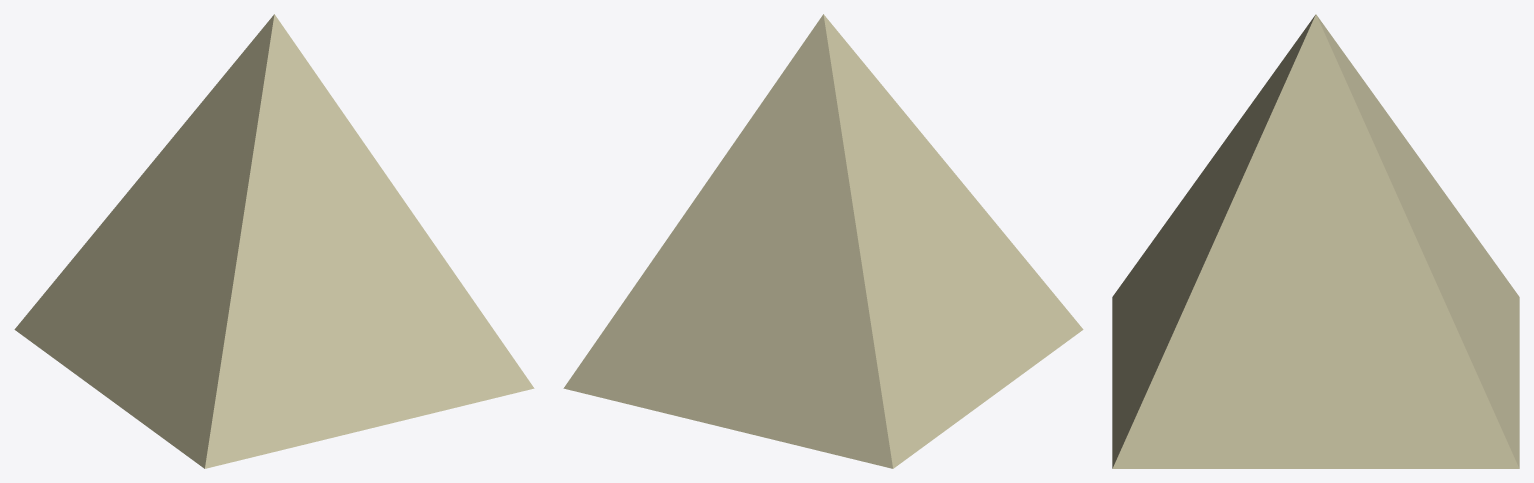
File: Shape_QuadPyramid.FBX
The picture shows the model from 3 angles, left to right: view 1: azimuth 30°, elevation 25°; view 2: azimuth 150°, elevation 25°; view 3: azimuth 270°, elevation 25°; orthographic projection. The views are drawn at different scales.
Parts seen in each view (by area): view 1: Shape_QuadPyramid; view 2: Shape_QuadPyramid; view 3: Shape_QuadPyramid.
Boxes of the visible parts, bbox=[...] form: Shape_QuadPyramid: bbox=[14, 14, 534, 468]; Shape_QuadPyramid: bbox=[563, 14, 1083, 468]; Shape_QuadPyramid: bbox=[1112, 14, 1519, 468].
Size of what is drawn, in the model's own units: 100 by 100 by 100.
